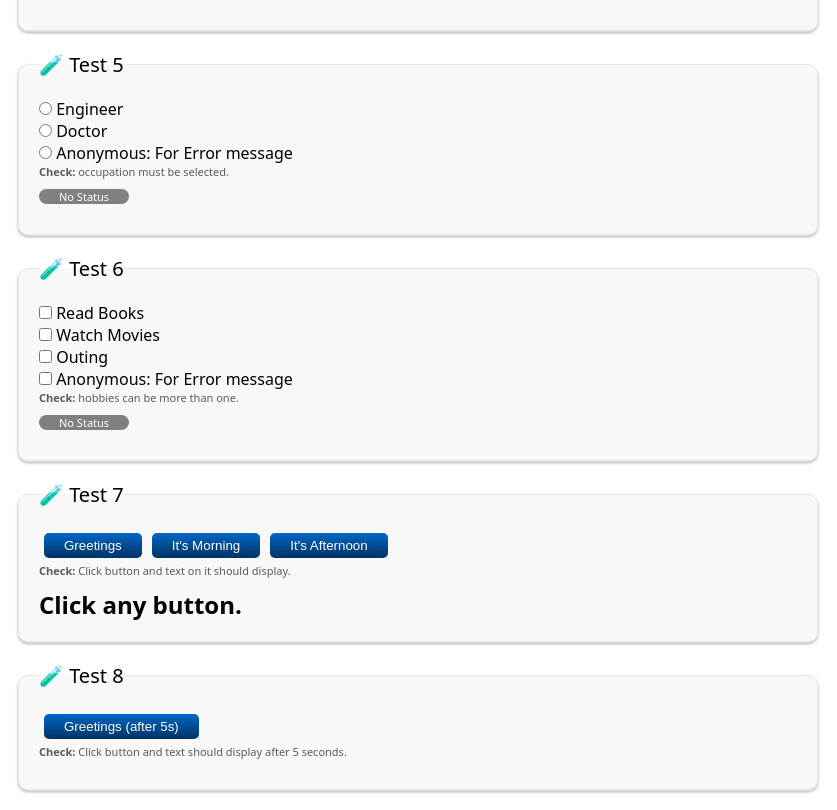
it: Form Component › should have timer-button section working fine
(page scrolled)
Step 1. Click the button with test id "timer-button" → (121, 726), box [44,714,199,739]
Wait 5000 ms
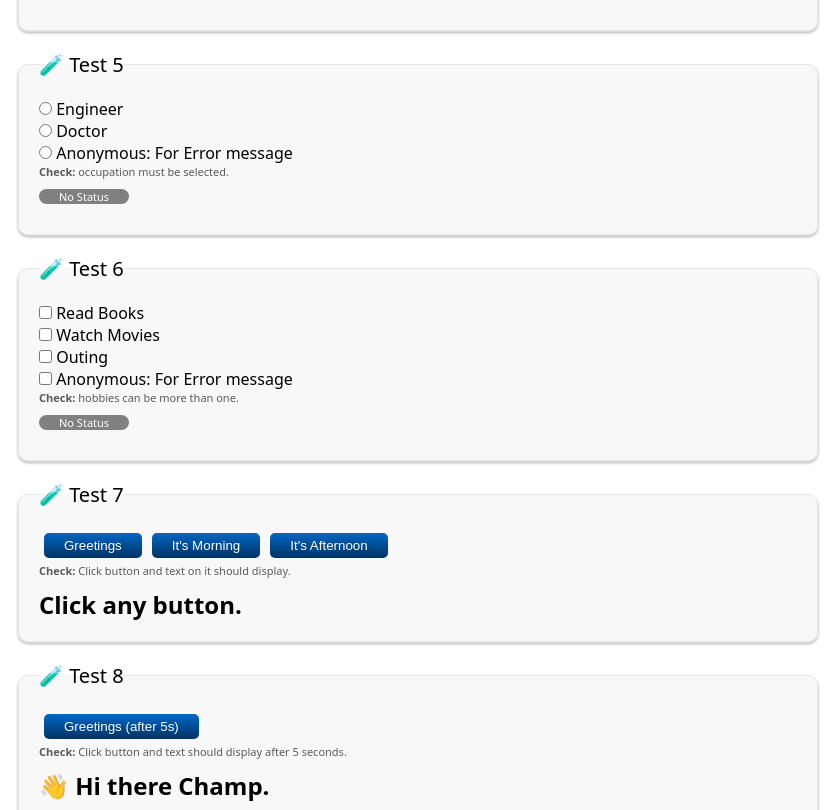
expect the heading with test id "timer-text" reads "👋 Hi there Champ.": met, box [39,769,270,802]
